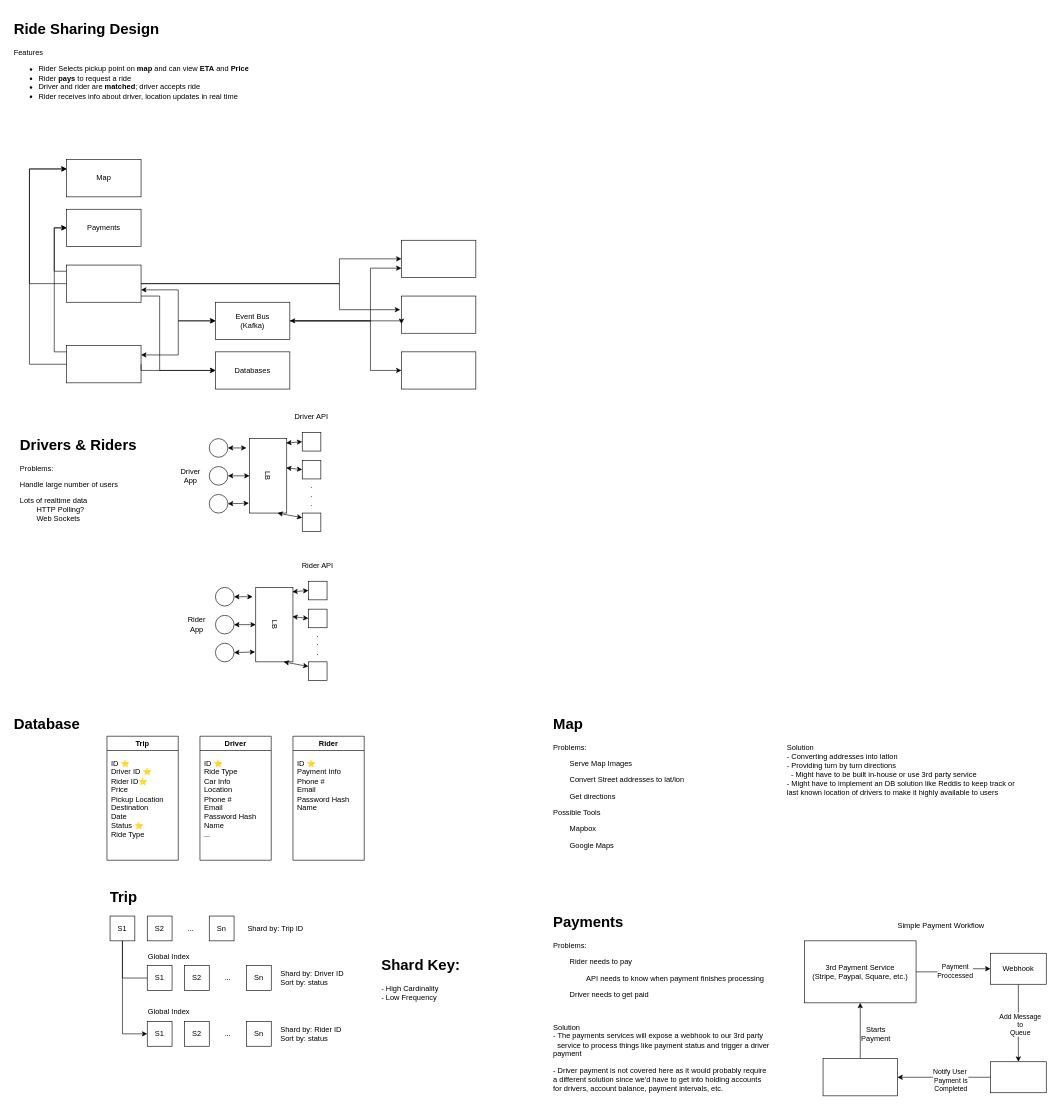
Some shapes in this 1057 by 1112 pixel diagram are drawn without their labels. The shapes that lost their labels are listed below. From the top down, each one's centre as x and y in pixels, then its label:
point 438,258: Pricing
point 103,283: Riders
point 438,314: Rides
point 103,364: Drivers
point 438,370: Matching
point 859,1077: User
point 1018,1077: kafka
